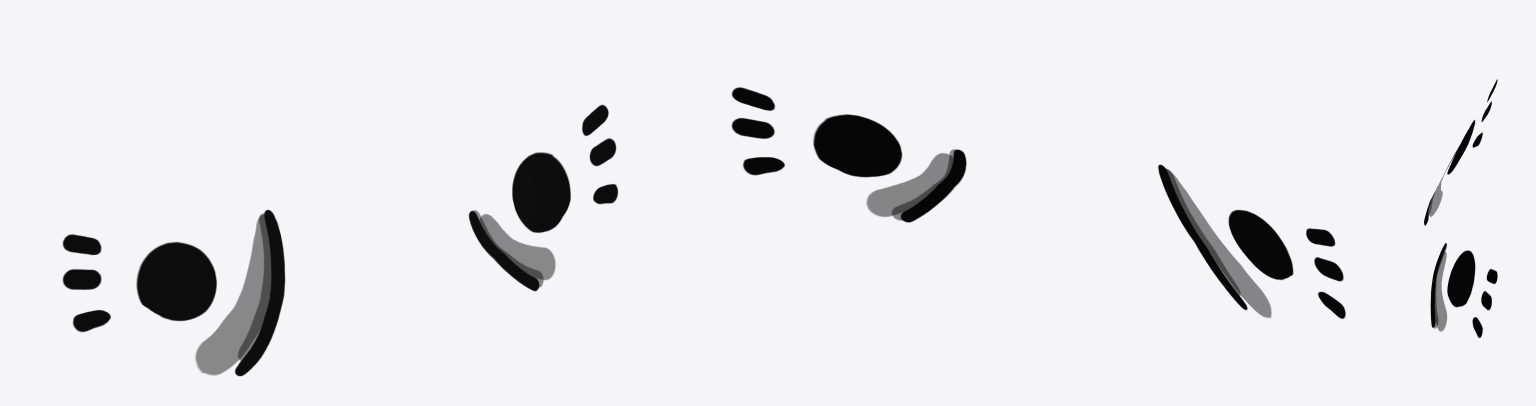
Rendered from Eyes4.glb.
3 views of the same model, side by side, from view 1: azimuth 30°, elevation 25°; view 2: azimuth 150°, elevation 25°; view 3: azimuth 270°, elevation 25° (orthographic). The views are drawn at different scales.
Visible parts, largest first — view 1: Eyes4; view 2: Eyes4; view 3: Eyes4.
Boxes of the visible parts, box(x1,y1,x2,y2) form: Eyes4: box(62, 104, 617, 376); Eyes4: box(731, 87, 1345, 318); Eyes4: box(1424, 79, 1497, 337).
Bounding box in the file's own units: 0.2489 × 0.0816 × 0.0527.
1 material, 1 textured.
